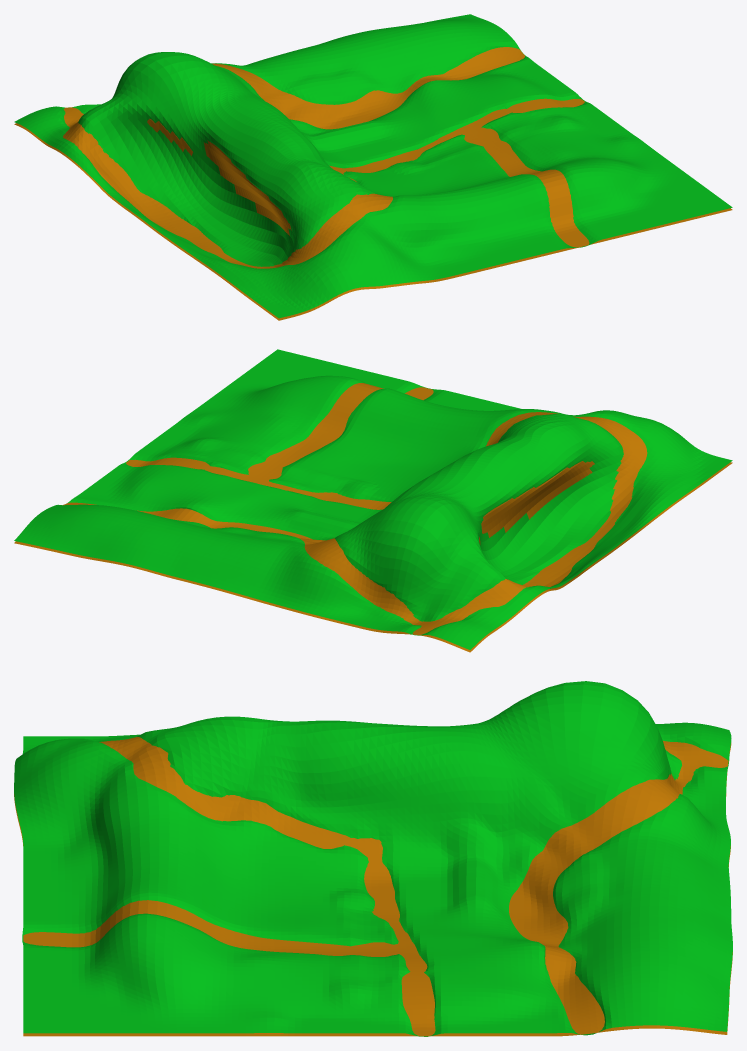
File: terrain.glb
3 renders of one model, top to bottom at view 1: azimuth 30°, elevation 25°; view 2: azimuth 150°, elevation 25°; view 3: azimuth 270°, elevation 25°, orthographic. The views are drawn at different scales.
Visible parts, largest first — view 1: Dirt; view 2: Dirt; view 3: Dirt.
Boxes of the visible parts, left/top/right/bottom form: Dirt: left=14, top=14, right=732, bottom=320; Dirt: left=14, top=349, right=732, bottom=652; Dirt: left=14, top=681, right=732, bottom=1036.
Bounding box in the file's own units: 513 × 120 × 512.
